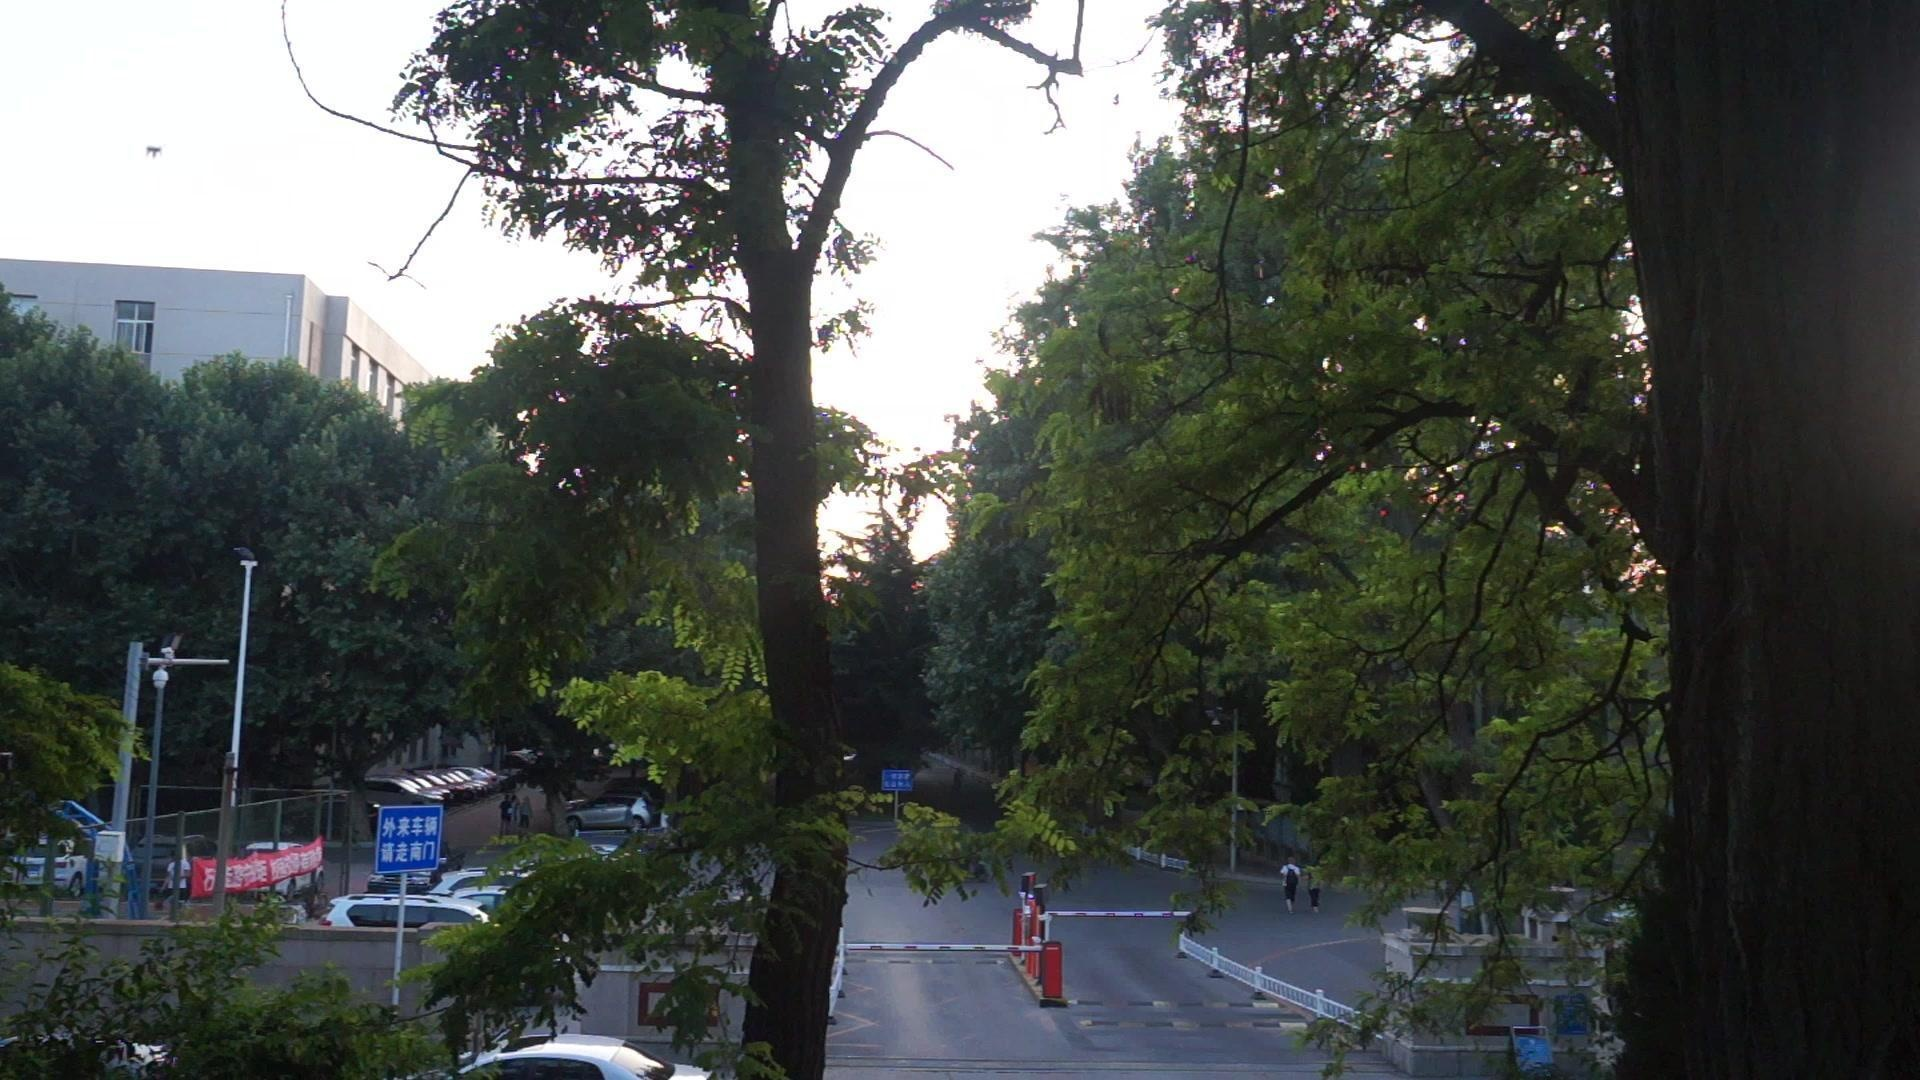UAV: (146, 146, 164, 160)
